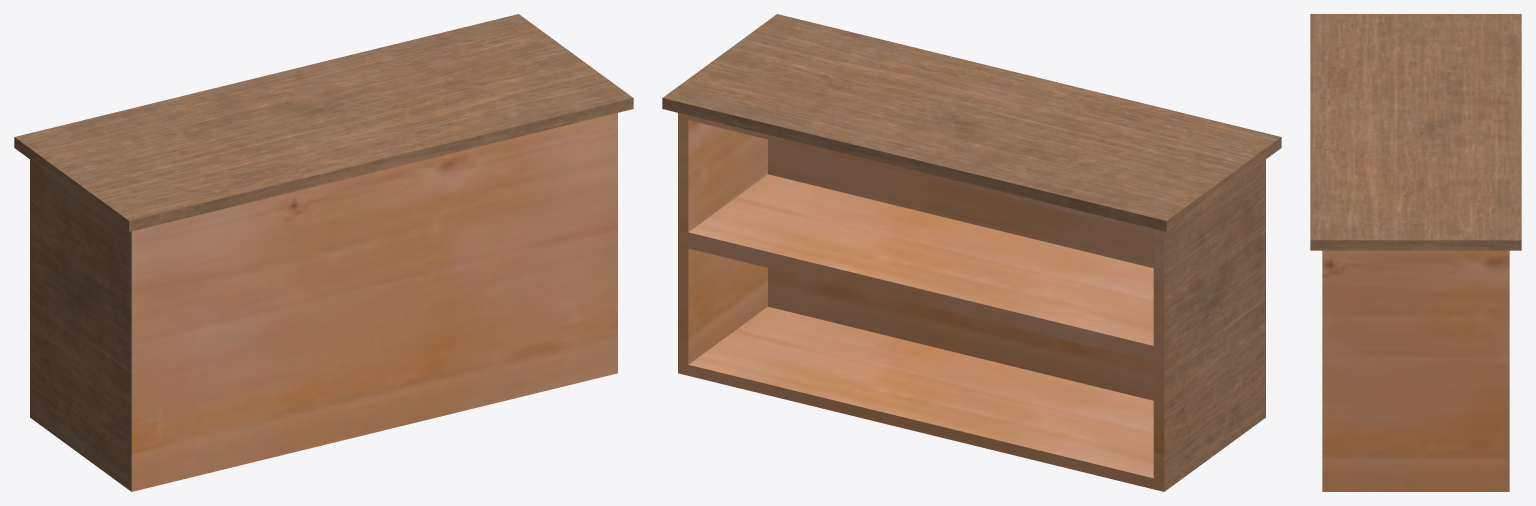
Rendered from Cajonera.glb.
The picture shows the model from 3 angles, left to right: view 1: azimuth 30°, elevation 25°; view 2: azimuth 150°, elevation 25°; view 3: azimuth 270°, elevation 25°; orthographic projection. The views are drawn at different scales.
Parts seen in each view (by area): view 1: Cajonera; view 2: Cajonera; view 3: Cajonera.
Part boxes in pixels (x1=…): Cajonera: x1=14, y1=14, x2=633, y2=491; Cajonera: x1=662, y1=14, x2=1281, y2=491; Cajonera: x1=1310, y1=14, x2=1521, y2=491.
Bounding box in the file's own units: 1.33 × 0.6988 × 0.523.
2 materials, 2 textured.
